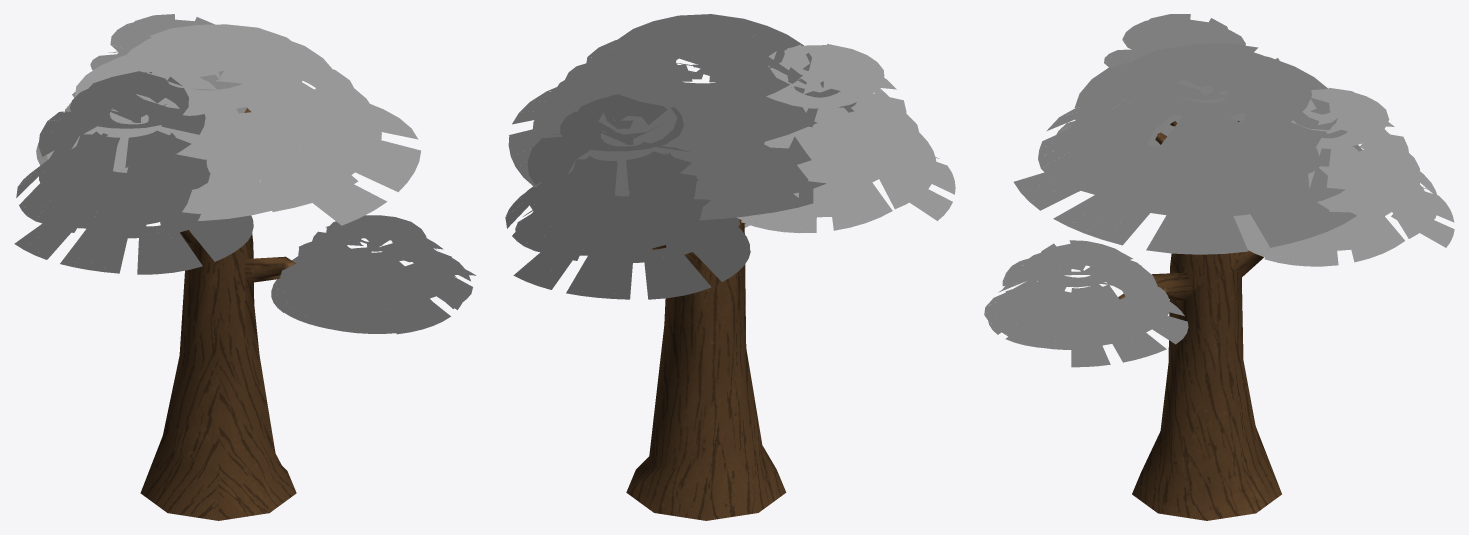
File: Taurus_hero_Tree.fbx
The picture shows the model from 3 angles, left to right: view 1: azimuth 30°, elevation 25°; view 2: azimuth 150°, elevation 25°; view 3: azimuth 270°, elevation 25°; orthographic projection. The views are drawn at different scales.
Visible parts, largest first — view 1: Leaves1, Leaves7, Tree, Leaves8, Leaves6; view 2: Leaves1, Leaves6, Tree, Leaves7; view 3: Leaves1, Tree, Leaves8, Leaves6, Leaves7.
Part boxes in pixels (x1,y1,x2,y2): Leaves1: [47, 24, 420, 225]; Leaves7: [14, 71, 253, 274]; Tree: [140, 108, 296, 520]; Leaves8: [271, 215, 476, 334]; Leaves6: [36, 14, 246, 165]; Leaves1: [508, 14, 856, 220]; Leaves6: [505, 94, 750, 299]; Tree: [626, 219, 786, 520]; Leaves7: [736, 44, 955, 233]; Leaves1: [1013, 43, 1362, 254]; Tree: [1118, 121, 1281, 520]; Leaves8: [984, 240, 1188, 367]; Leaves6: [1233, 88, 1454, 266]; Leaves7: [1056, 14, 1245, 147].
Size of the model in its own units: 11.46 by 11.87 by 12.04.
